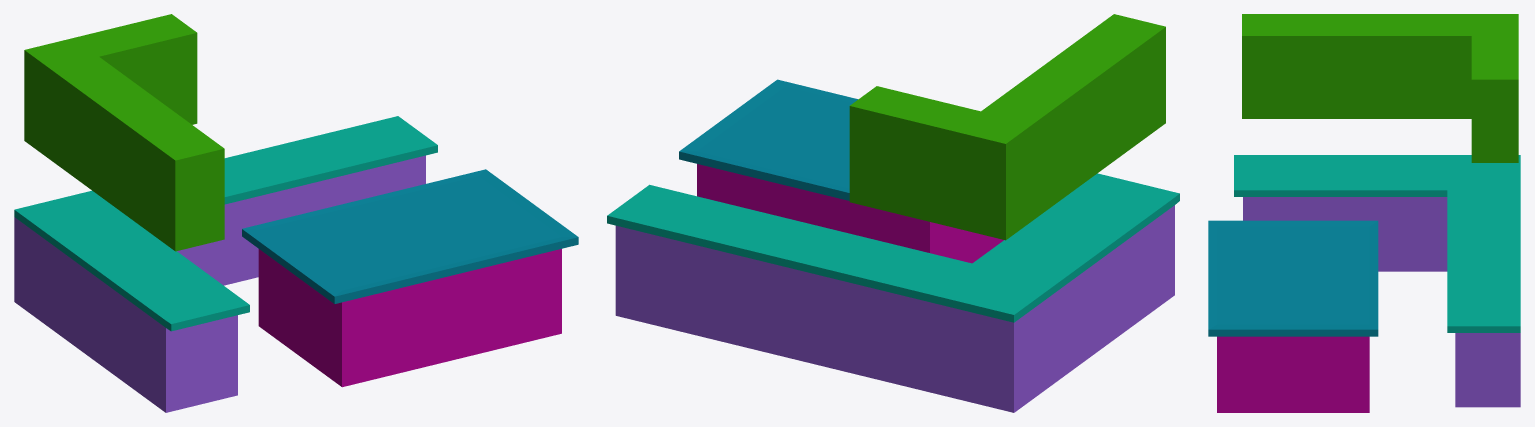
Rendered from TablesCabinets.fbx.
3 views of the same model, side by side, from view 1: azimuth 30°, elevation 25°; view 2: azimuth 150°, elevation 25°; view 3: azimuth 270°, elevation 25° (orthographic). The views are drawn at different scales.
Parts seen in each view (by area): view 1: pCube1, pCube4, pCube3; view 2: pCube1, pCube3, pCube4; view 3: pCube1, pCube4, pCube3.
Boxes of the visible parts, bbox=[...] form: pCube1: bbox=[14, 116, 437, 412]; pCube4: bbox=[242, 169, 578, 387]; pCube3: bbox=[24, 14, 224, 251]; pCube1: bbox=[607, 173, 1179, 412]; pCube3: bbox=[849, 14, 1165, 240]; pCube4: bbox=[679, 79, 1003, 263]; pCube1: bbox=[1234, 155, 1520, 407]; pCube4: bbox=[1208, 220, 1378, 412]; pCube3: bbox=[1242, 14, 1518, 162].
Bounding box in the file's own units: 1065 × 656 × 799.
